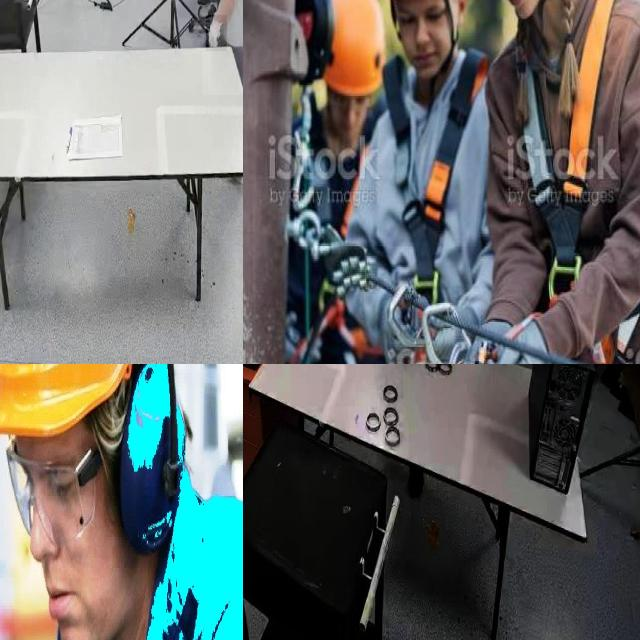Ear-protection: (121, 364, 199, 588)
Harness: (524, 0, 615, 314), (382, 49, 488, 281)
hand_glove: (206, 15, 228, 52)
head_helmet: (0, 364, 208, 454)
